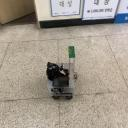cart: (46, 63, 74, 100)
